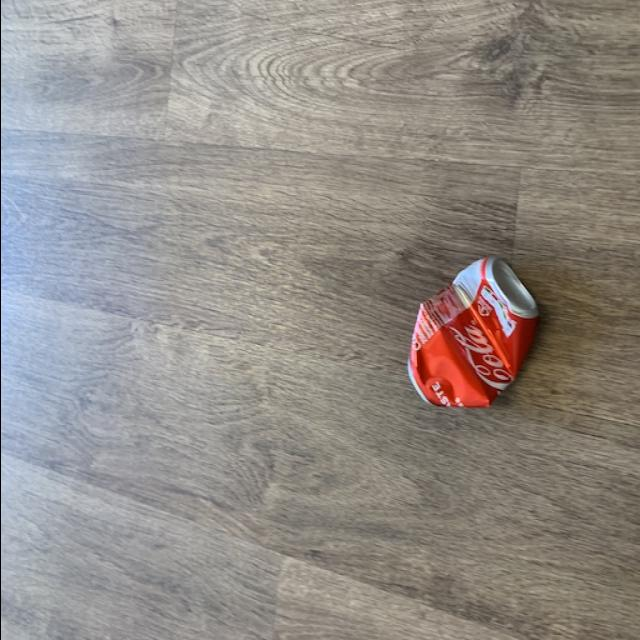Aluminum Can: (406, 248, 542, 418)
